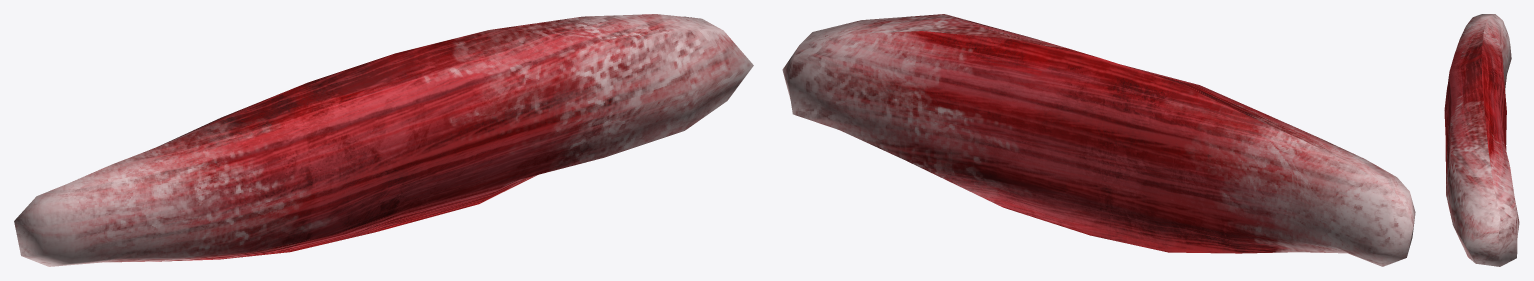
File: MuscleORGAN.fbx
3 renders of one model, left to right at view 1: azimuth 30°, elevation 25°; view 2: azimuth 150°, elevation 25°; view 3: azimuth 270°, elevation 25°, orthographic. The views are drawn at different scales.
Visible parts, largest first — view 1: Cube.010; view 2: Cube.010; view 3: Cube.010.
Part boxes in pixels (<box>): Cube.010: <box>14,14,753,266</box>; Cube.010: <box>782,14,1415,266</box>; Cube.010: <box>1444,14,1519,266</box>.
Bounding box in the file's own units: 1068 × 269 × 151.
